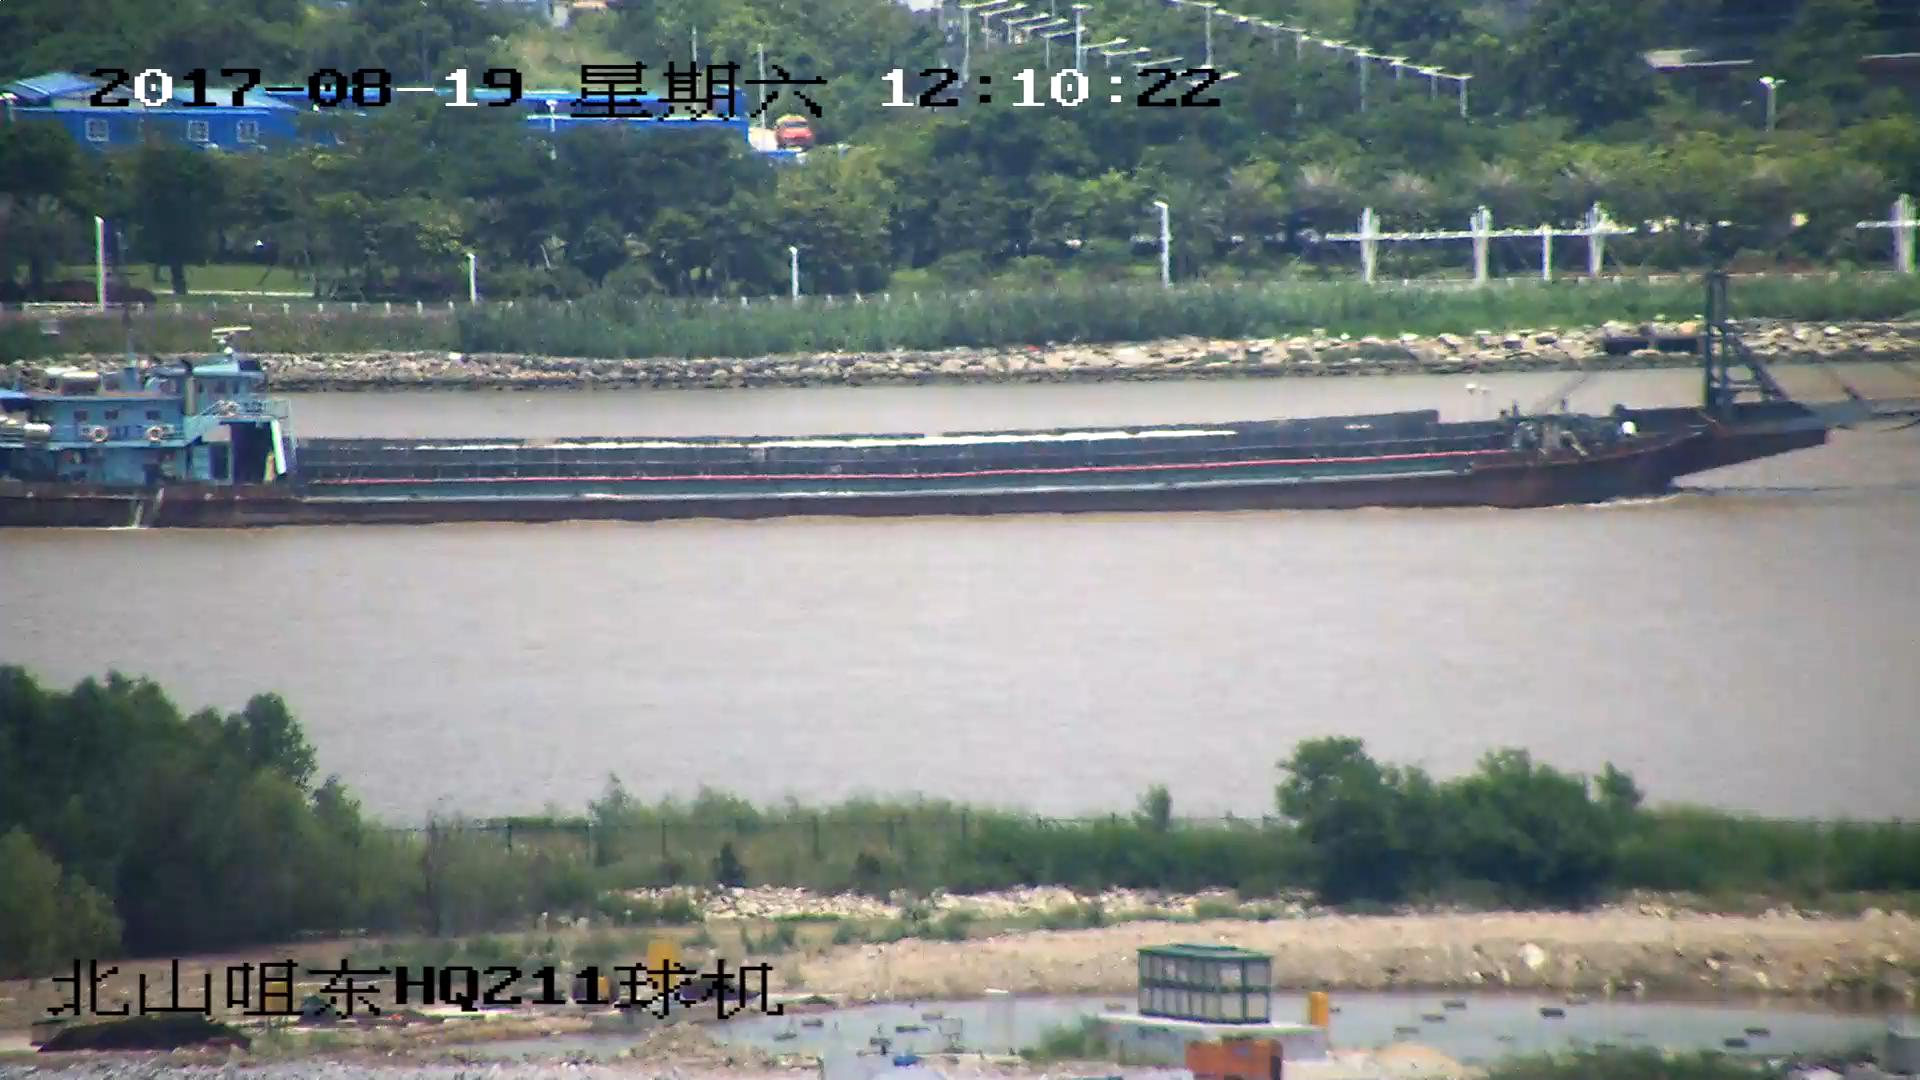bulk cargo carrier: (1, 221, 1920, 526)
